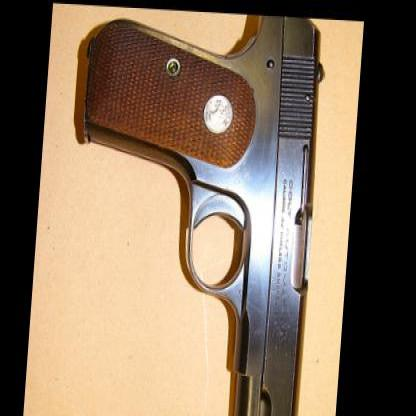pistol: (68, 4, 333, 415)
